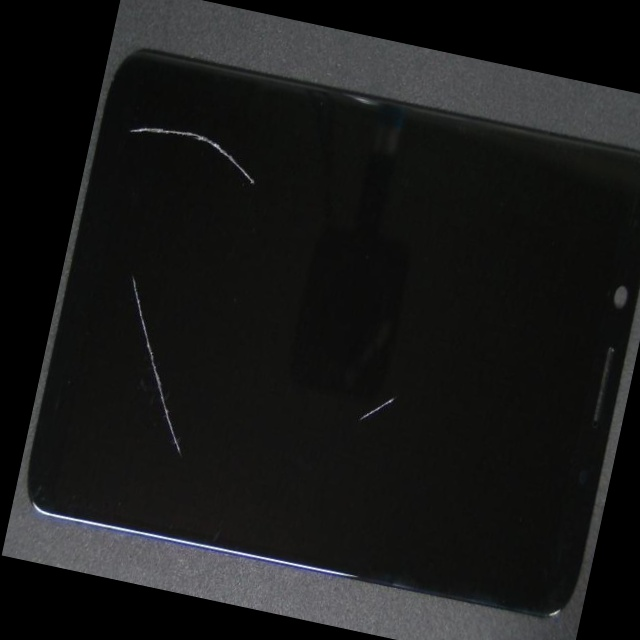scratch: (195, 211, 602, 604), (133, 322, 253, 587), (241, 93, 306, 225)
